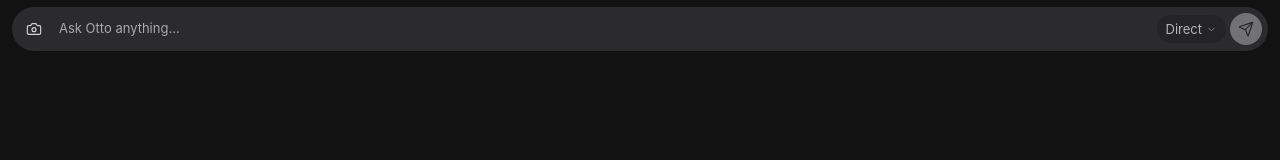
Learning modes and slash commands › typing slash opens menu, keyboard selects mode, and Escape does not bubble
The image size is (1280, 160).
In the text box named "Question for the selected agent": [603, 29] box 55,20 -> 1152,38, type "/s"
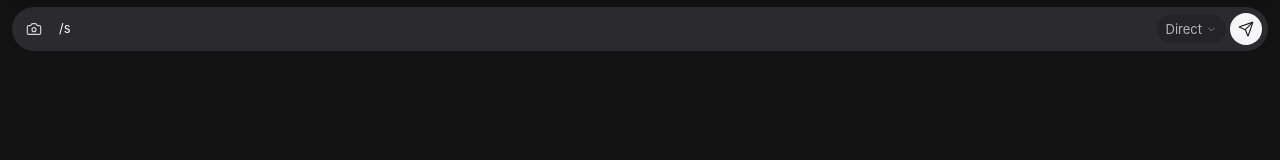
Press Escape in the text box named "Question for the selected agent", box 55,20 -> 1152,38
Replace the text in the text box named "Question for the selected agent" with "/m": [603, 29] box 55,20 -> 1152,38
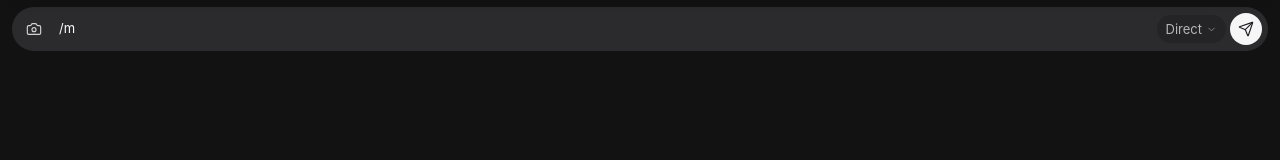
Press Enter in the text box named "Question for the selected agent", box 55,20 -> 1152,38
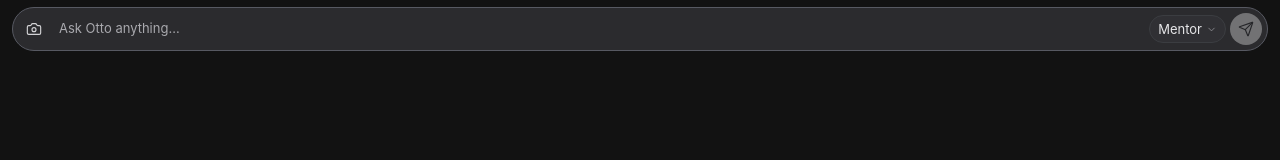
Result: the text box named "Question for the selected agent" is empty at 55,20 -> 1144,38
Result: the button with aria-label "Learning mode: Mentor" is shown at 1149,15 -> 1226,43
